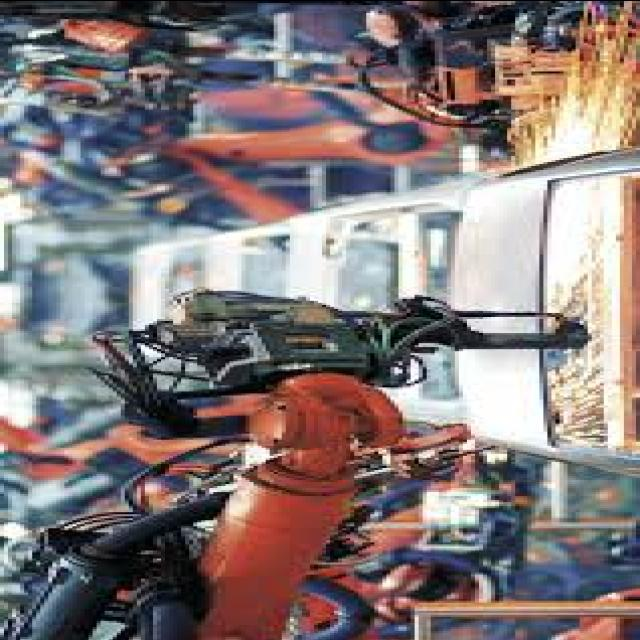Robotic-arm: (92, 288, 581, 640)
